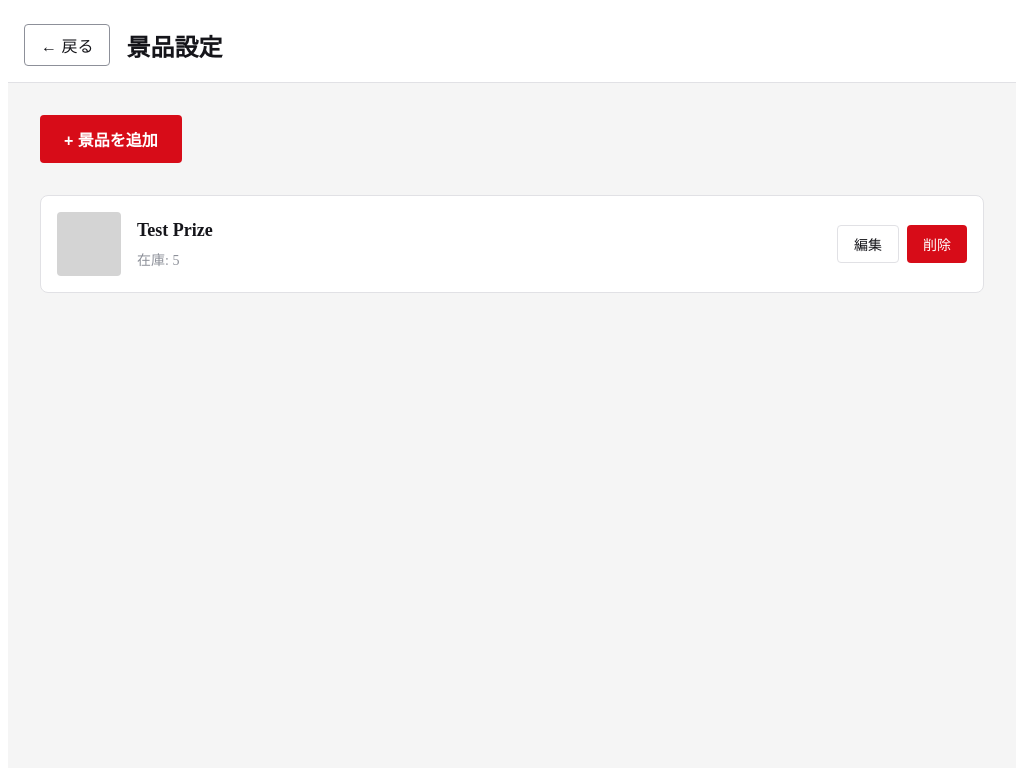
SettingsScreen › 景品編集 › should show edit form when edit button is clicked
Click the button with test id "edit-prize-button-0" at (868, 244), box x1=837 y1=225 x2=899 y2=263
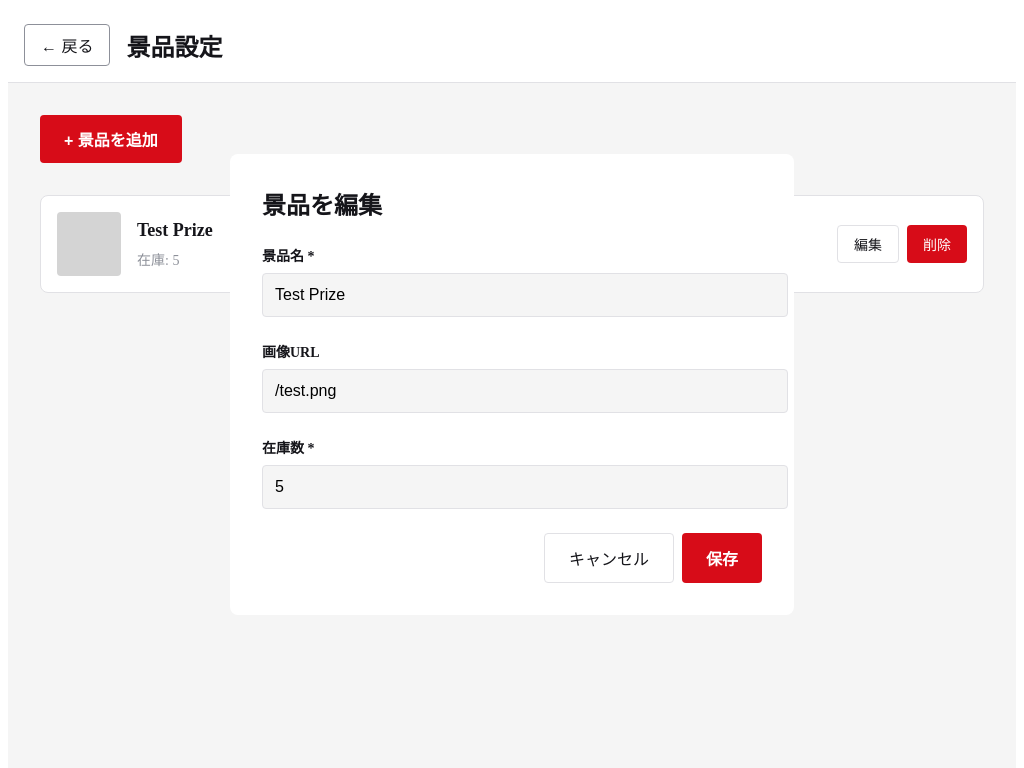
Check: the form with test id "prize-form" is shown, box x1=262 y1=186 x2=762 y2=582
